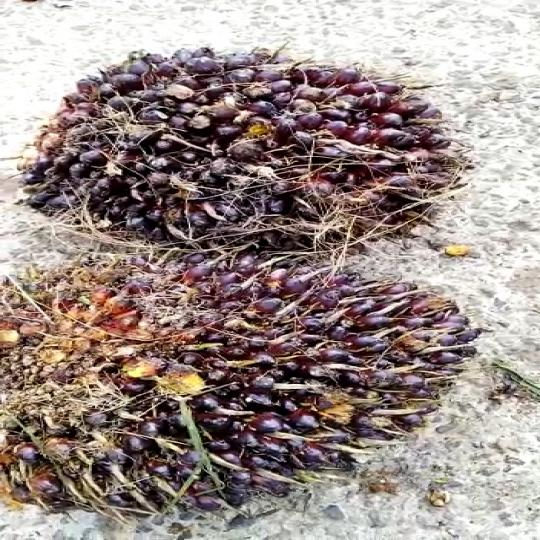kurang masak: (0, 256, 497, 540), (10, 32, 481, 274)
